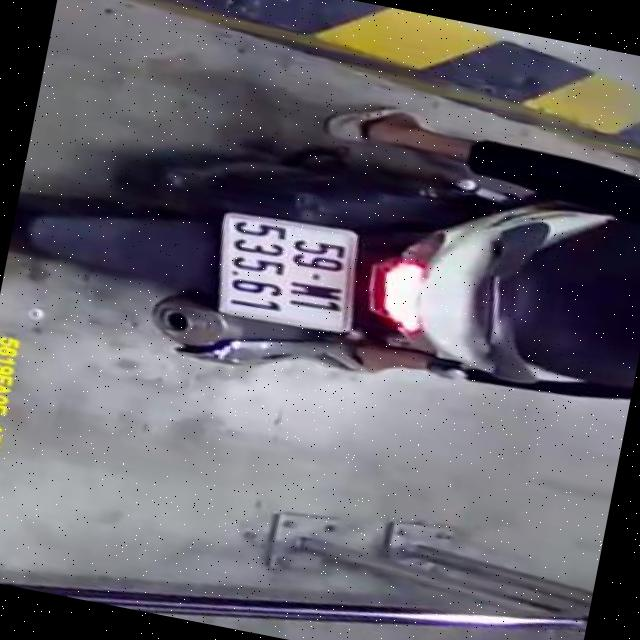license_plate: (206, 206, 354, 337)
